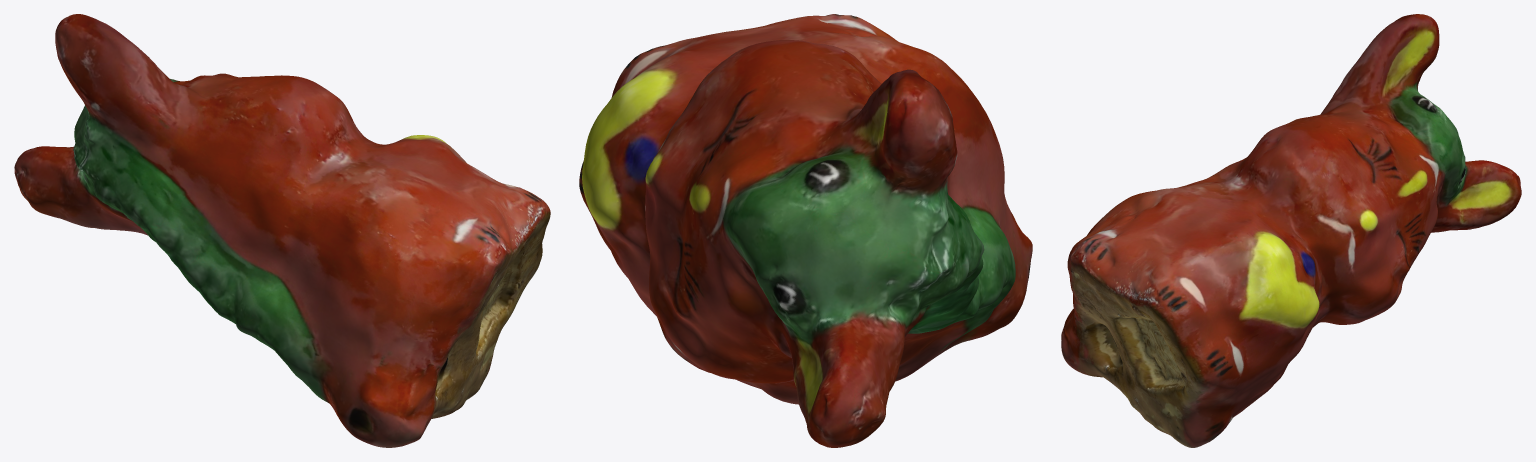
3 renders of one model, left to right at view 1: azimuth 30°, elevation 25°; view 2: azimuth 150°, elevation 25°; view 3: azimuth 270°, elevation 25°, orthographic. The views are drawn at different scales.
Bounding box in the file's own units: 0.6601 × 0.6194 × 0.804.
1 material, 1 textured.
